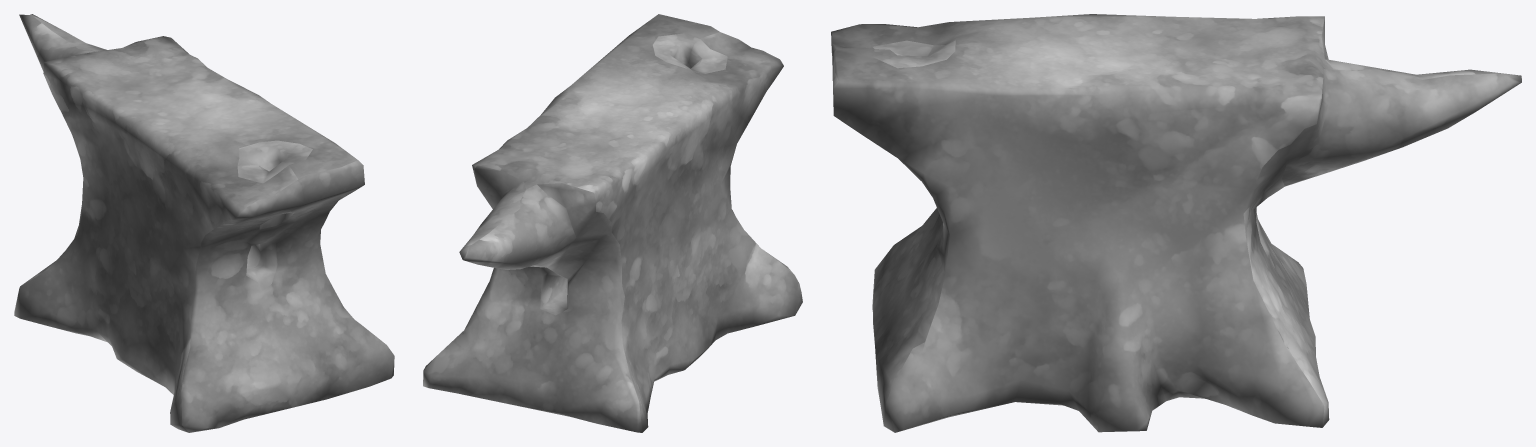
The model's file is SM_Anvil_01a.fbx.
The picture shows the model from 3 angles, left to right: view 1: azimuth 30°, elevation 25°; view 2: azimuth 150°, elevation 25°; view 3: azimuth 270°, elevation 25°; orthographic projection. The views are drawn at different scales.
Parts seen in each view (by area): view 1: SM_Anvil_01a_LOD0; view 2: SM_Anvil_01a_LOD0; view 3: SM_Anvil_01a_LOD0.
Part boxes in pixels (x1=…): SM_Anvil_01a_LOD0: x1=14, y1=14, x2=394, y2=432; SM_Anvil_01a_LOD0: x1=423, y1=14, x2=802, y2=432; SM_Anvil_01a_LOD0: x1=831, y1=14, x2=1521, y2=432.
Bounding box in the file's own units: 26.1 × 54.75 × 27.81.
